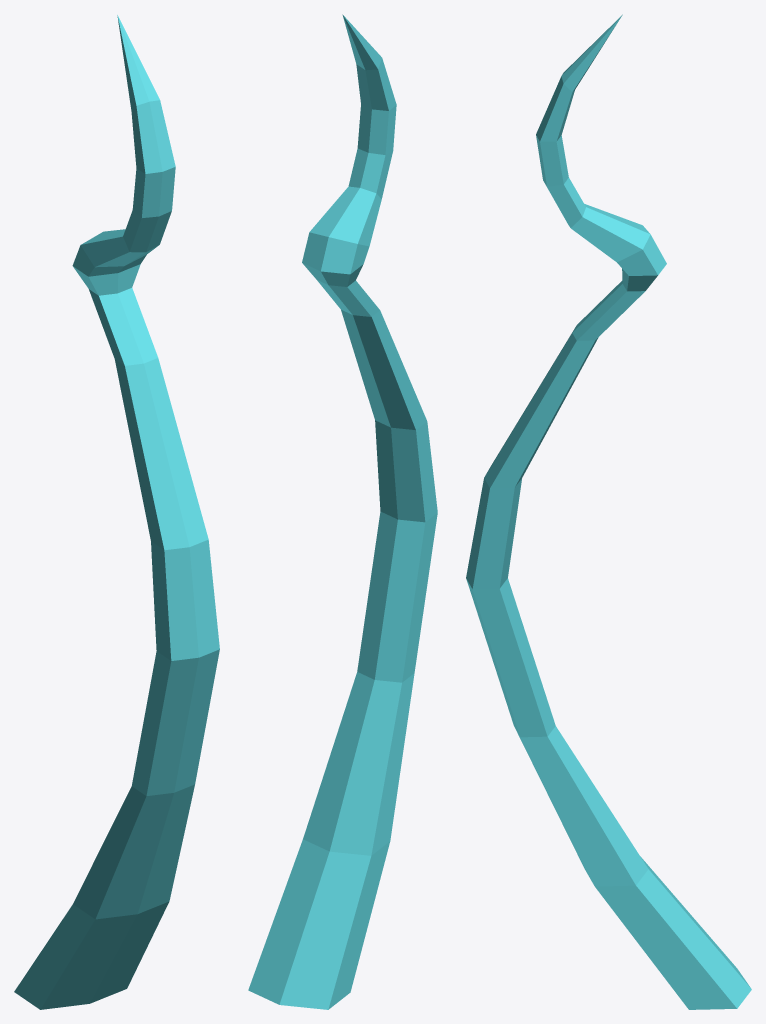
The model's file is StormvineCrop.fbx.
3 renders of one model, left to right at view 1: azimuth 30°, elevation 25°; view 2: azimuth 150°, elevation 25°; view 3: azimuth 270°, elevation 25°, orthographic. The views are drawn at different scales.
Visible parts, largest first — view 1: Cube.004; view 2: Cube.004; view 3: Cube.004.
Part boxes in pixels (x1,y1,x2,y2): Cube.004: (14, 15, 219, 1009); Cube.004: (248, 14, 437, 1009); Cube.004: (466, 14, 751, 1009).
Bounding box in the file's own units: 5.15 × 56.46 × 15.01.
